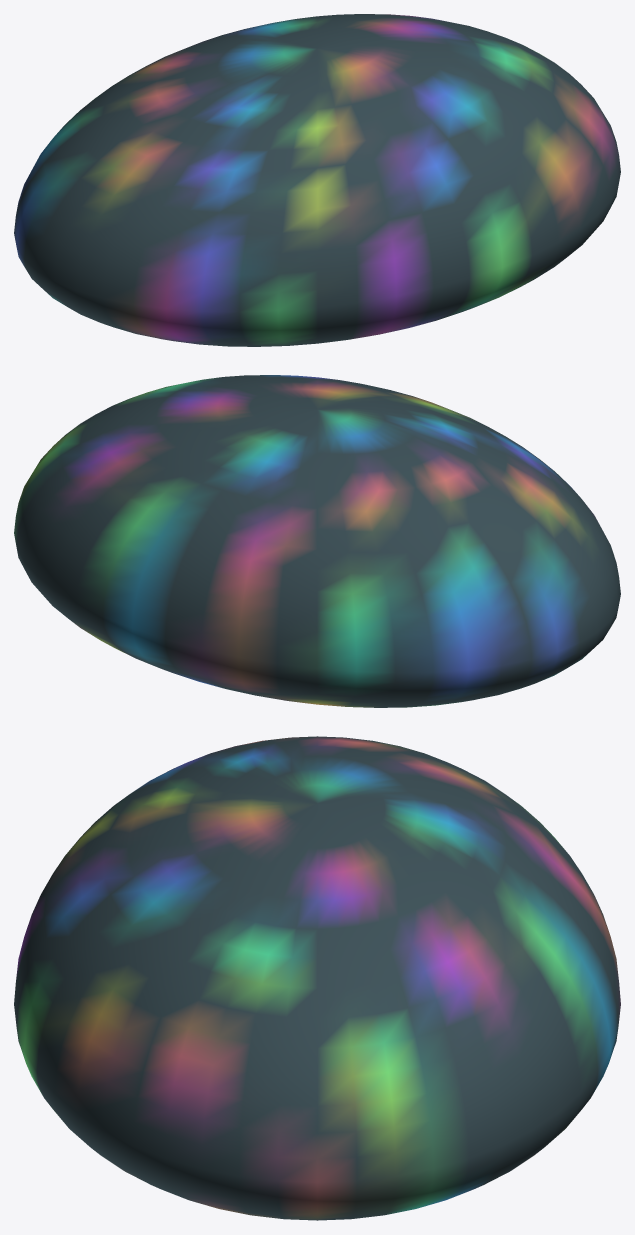
File: jewelry.glb
The picture shows the model from 3 angles, top to bottom: view 1: azimuth 30°, elevation 25°; view 2: azimuth 150°, elevation 25°; view 3: azimuth 270°, elevation 25°; orthographic projection. The views are drawn at different scales.
Parts seen in each view (by area): view 1: labradorite; view 2: labradorite; view 3: labradorite.
Boxes of the visible parts, x1,y1,x2,y2 form: labradorite: (14, 14, 620, 346); labradorite: (14, 375, 620, 707); labradorite: (14, 736, 620, 1220).
Size of the model in its own units: 2.36 by 1 by 1.7.
